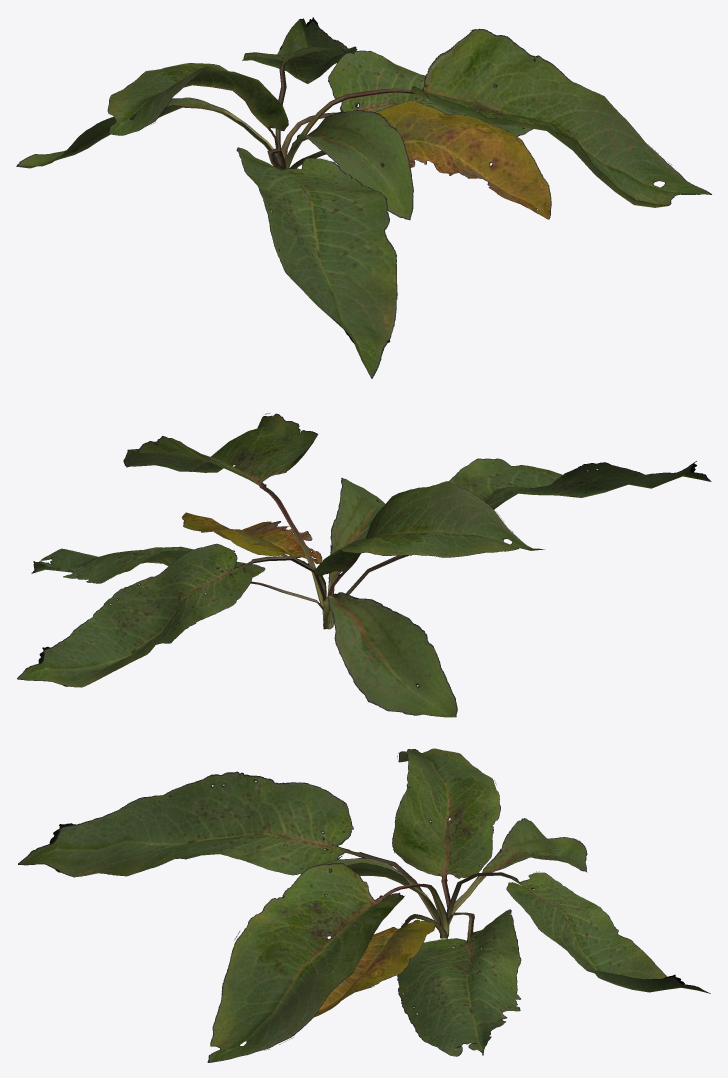
Rendered from weed_plant_02.glb.
The picture shows the model from 3 angles, top to bottom: view 1: azimuth 30°, elevation 25°; view 2: azimuth 150°, elevation 25°; view 3: azimuth 270°, elevation 25°; orthographic projection. The views are drawn at different scales.
Parts seen in each view (by area): view 1: weed_plant_02_a_LOD0; view 2: weed_plant_02_a_LOD0; view 3: weed_plant_02_a_LOD0.
Boxes of the visible parts, x1=… form: weed_plant_02_a_LOD0: x1=16, y1=17, x2=711, y2=378; weed_plant_02_a_LOD0: x1=17, y1=413, x2=711, y2=717; weed_plant_02_a_LOD0: x1=18, y1=748, x2=710, y2=1062.
Size of the model in its own units: 0.2194 by 0.0725 by 0.2909.
1 material, 1 textured.
